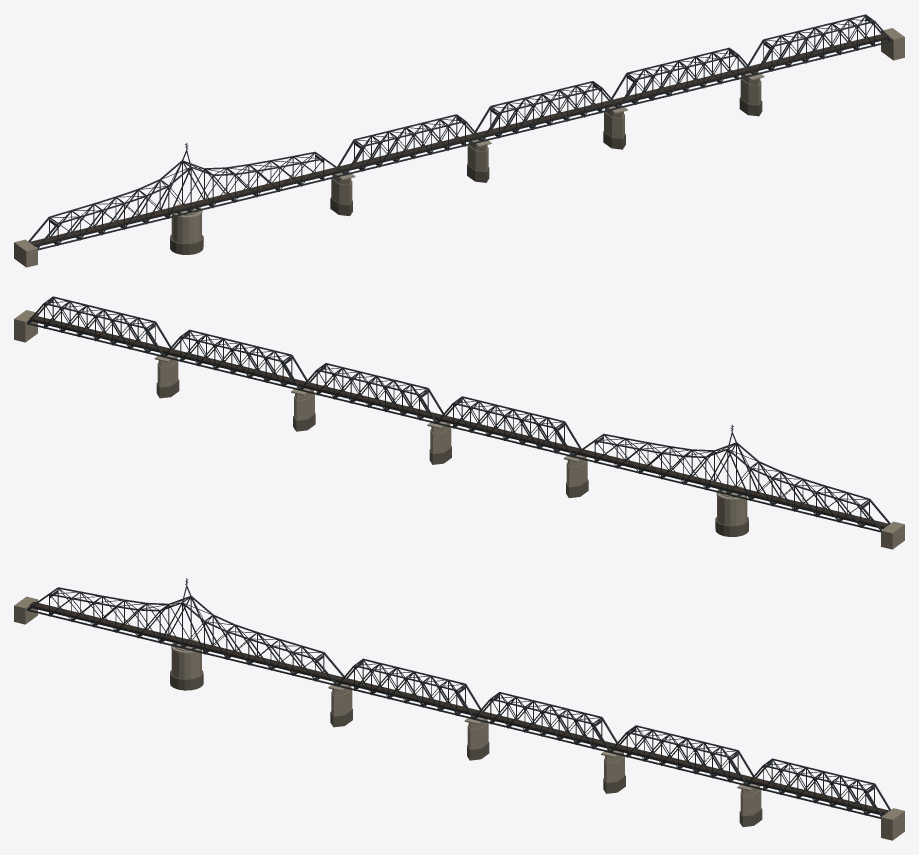
File: baring-cross-bridge-1913.glb
3 renders of one model, top to bottom at view 1: azimuth 30°, elevation 25°; view 2: azimuth 150°, elevation 25°; view 3: azimuth 330°, elevation 25°, orthographic.
Visible parts, largest first — view 1: baring_steel2, baring_steel, baring_tie, baring_pier, baring_rail, baring_wet, baring_concrete, baring_cap; view 2: baring_steel2, baring_steel, baring_tie, baring_pier, baring_rail, baring_wet, baring_concrete, baring_cap; view 3: baring_steel2, baring_steel, baring_tie, baring_pier, baring_rail, baring_wet, baring_concrete, baring_cap.
Part boxes in pixels (x1,y1,x2,y2): baring_steel2: [34, 15, 889, 246]; baring_steel: [28, 14, 891, 250]; baring_tie: [29, 33, 889, 245]; baring_pier: [171, 74, 761, 243]; baring_rail: [30, 34, 888, 244]; baring_wet: [170, 97, 762, 254]; baring_concrete: [14, 28, 904, 267]; baring_cap: [172, 71, 764, 218]; baring_steel2: [29, 297, 884, 528]; baring_steel: [27, 296, 890, 532]; baring_tie: [29, 315, 889, 527]; baring_pier: [157, 356, 747, 525]; baring_rail: [30, 316, 888, 526]; baring_wet: [156, 379, 748, 536]; baring_concrete: [14, 310, 904, 549]; baring_cap: [154, 353, 746, 500]; baring_steel2: [27, 580, 884, 815]; baring_steel: [27, 578, 890, 818]; baring_tie: [29, 602, 889, 813]; baring_pier: [171, 649, 761, 816]; baring_rail: [30, 602, 888, 812]; baring_wet: [170, 670, 762, 826]; baring_concrete: [14, 596, 904, 840]; baring_cap: [171, 639, 757, 791].
Size of the model in its own units: 306 by 34.95 by 10.2.
